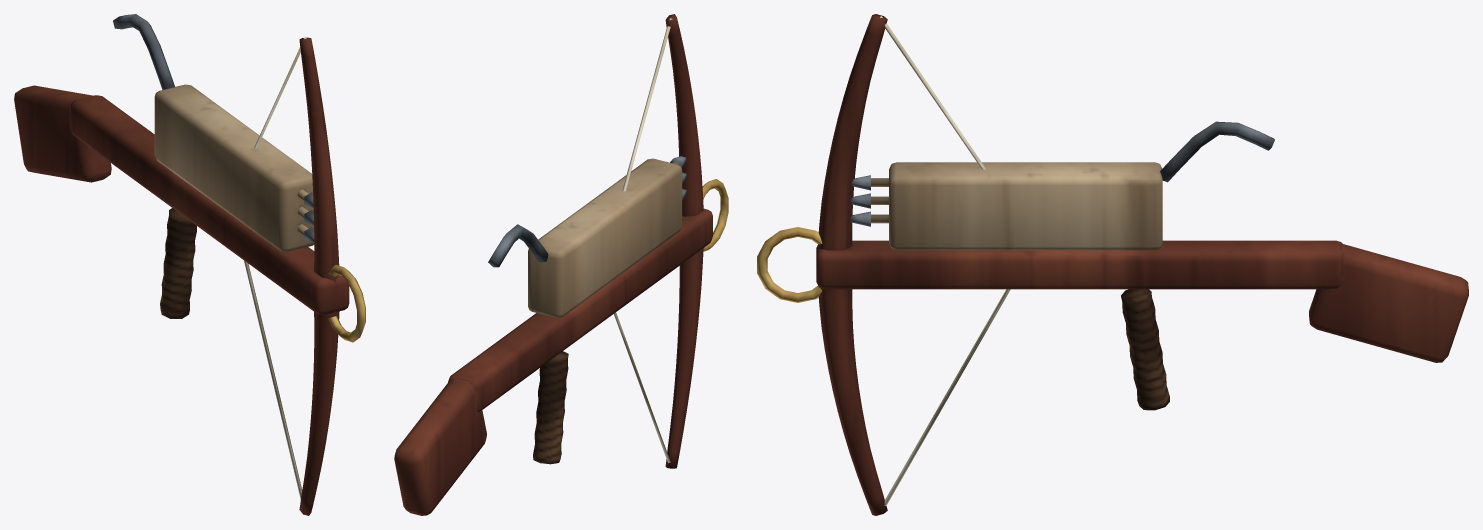
Rendered from TripleRepeater.fbx.
The picture shows the model from 3 angles, left to right: view 1: azimuth 30°, elevation 25°; view 2: azimuth 150°, elevation 25°; view 3: azimuth 270°, elevation 25°; orthographic projection. The views are drawn at different scales.
Parts seen in each view (by area): view 1: TripleRepeater; view 2: TripleRepeater; view 3: TripleRepeater.
Part boxes in pixels (box(x1,y1,x2,y2)): TripleRepeater: box(14, 14, 365, 515); TripleRepeater: box(394, 14, 728, 515); TripleRepeater: box(757, 14, 1468, 515).
Bounding box in the file's own units: 0.05 × 0.6052 × 0.781.
